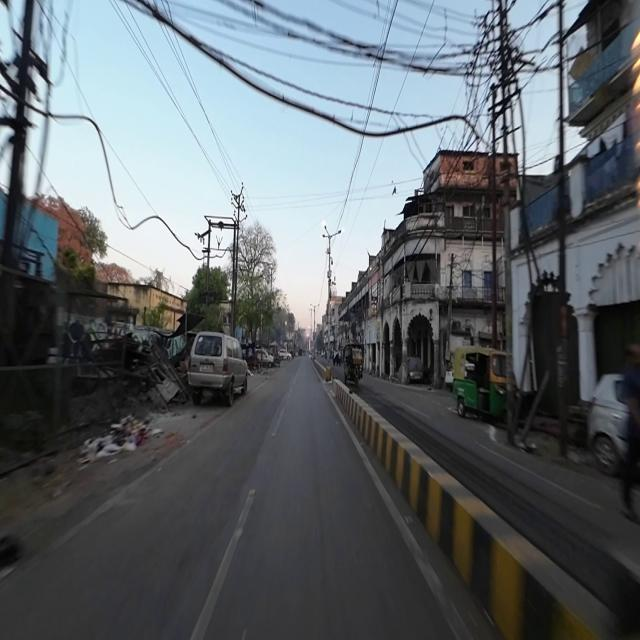Garbage: (88, 414, 152, 460)
